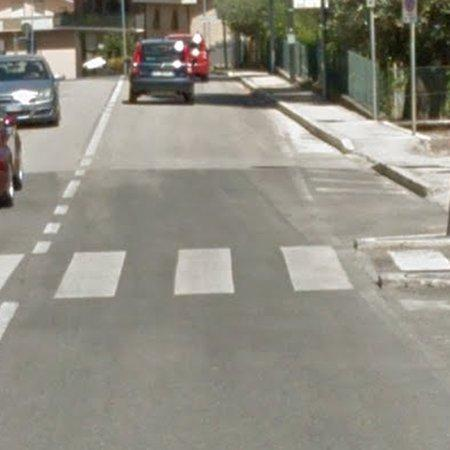crosswalks: (0, 245, 354, 298)
